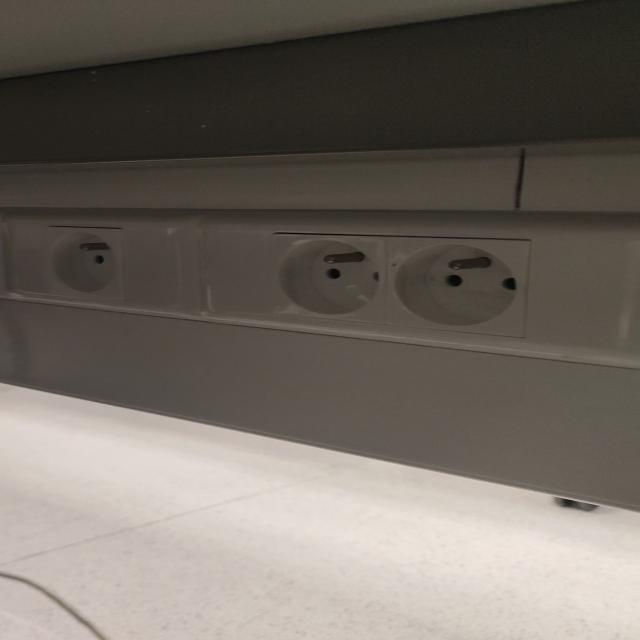house plug: (385, 238, 547, 340), (265, 232, 385, 329), (41, 222, 127, 300)
